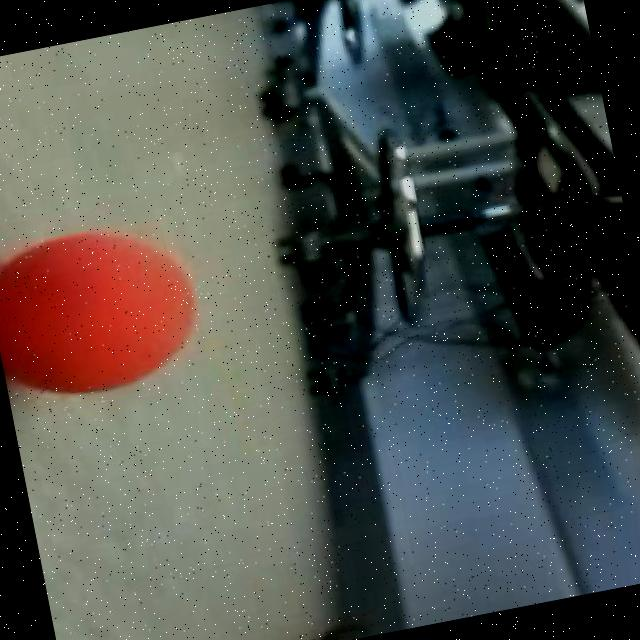ping-pong-ball: (0, 205, 213, 415)
